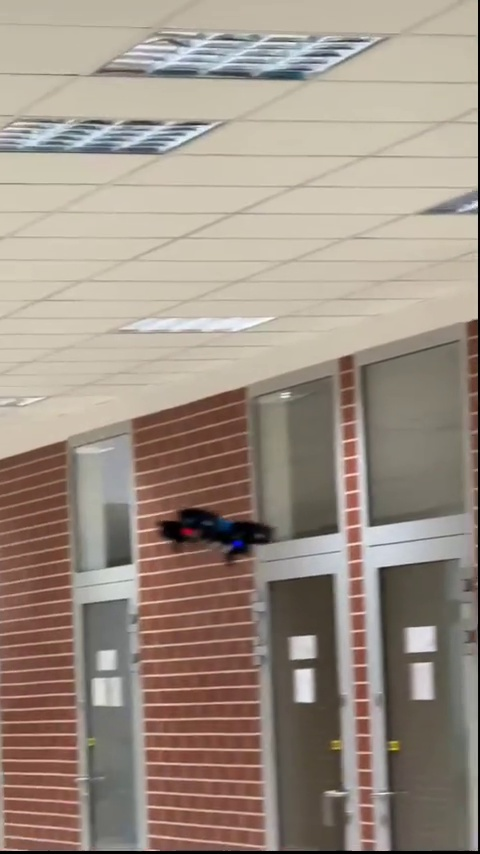drone: (154, 503, 271, 567)
